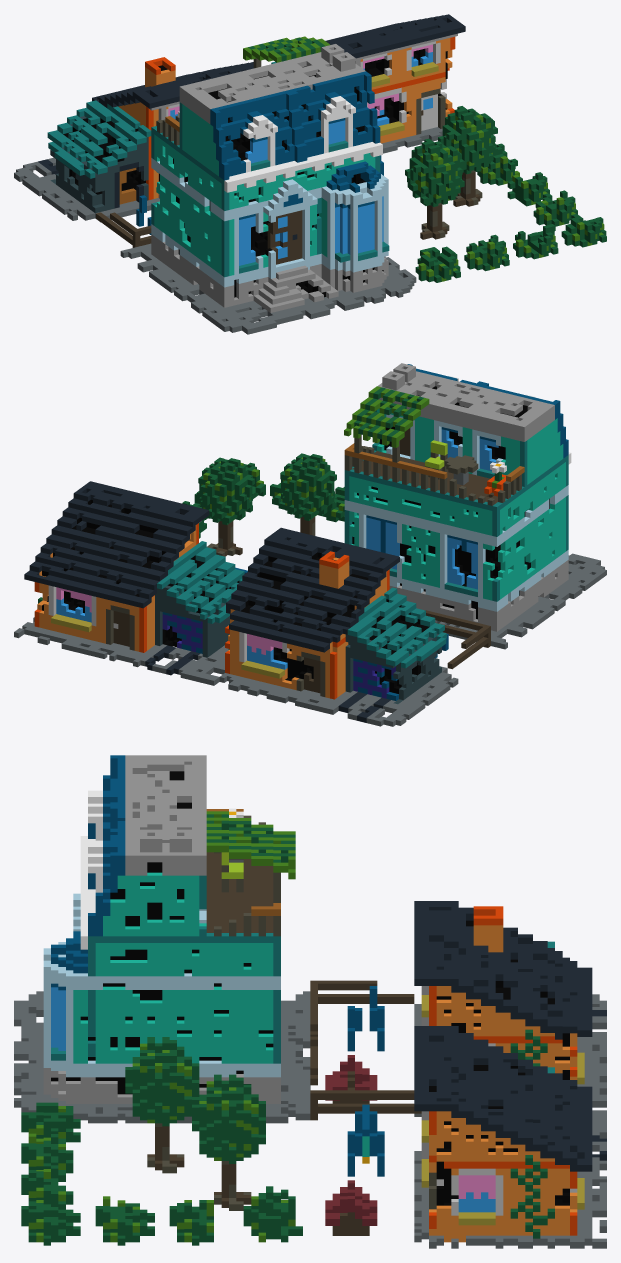
Rendered from building_small_5_damaged.obj.
3 renders of one model, top to bottom at view 1: azimuth 30°, elevation 25°; view 2: azimuth 150°, elevation 25°; view 3: azimuth 270°, elevation 25°, orthographic. The views are drawn at different scales.
Bounding box in the file's own units: 8 × 4 × 8.
Materials: 1 (1 with a texture image).
